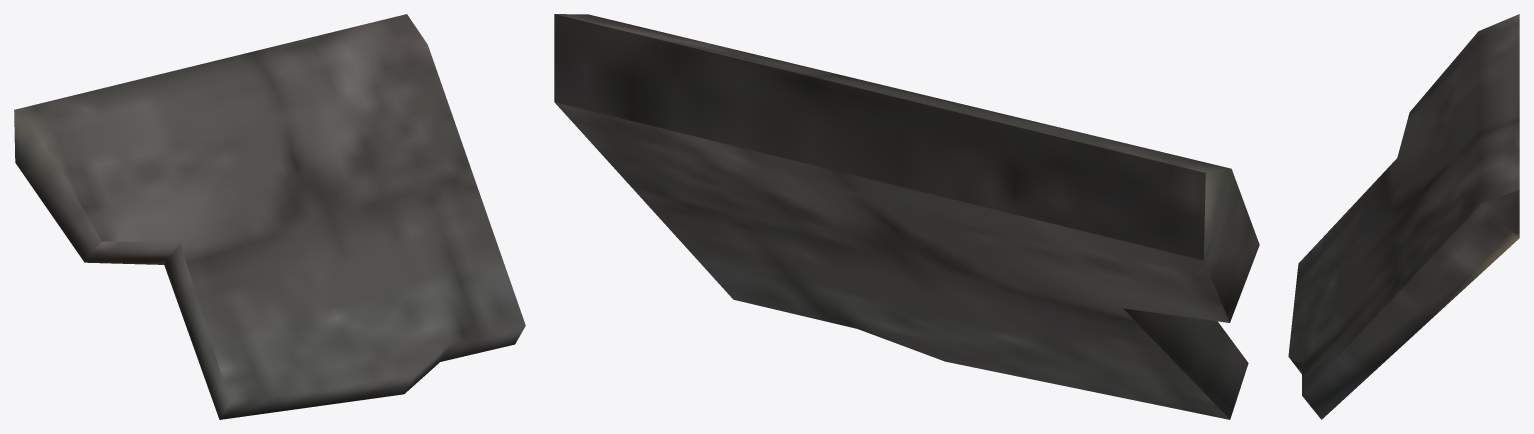
File: roof.stone.top.line.end.left.glb
The picture shows the model from 3 angles, left to right: view 1: azimuth 30°, elevation 25°; view 2: azimuth 150°, elevation 25°; view 3: azimuth 270°, elevation 25°; orthographic projection. The views are drawn at different scales.
Visible parts, largest first — view 1: LOD0; view 2: LOD0; view 3: LOD0.
Part boxes in pixels (left/top/right/bottom): LOD0: left=14, top=14, right=525, bottom=419; LOD0: left=554, top=14, right=1259, bottom=419; LOD0: left=1288, top=14, right=1519, bottom=419.
Size of the model in its own units: 0.9001 by 0.5821 by 0.5005.
Materials: 1 (1 with a texture image).
